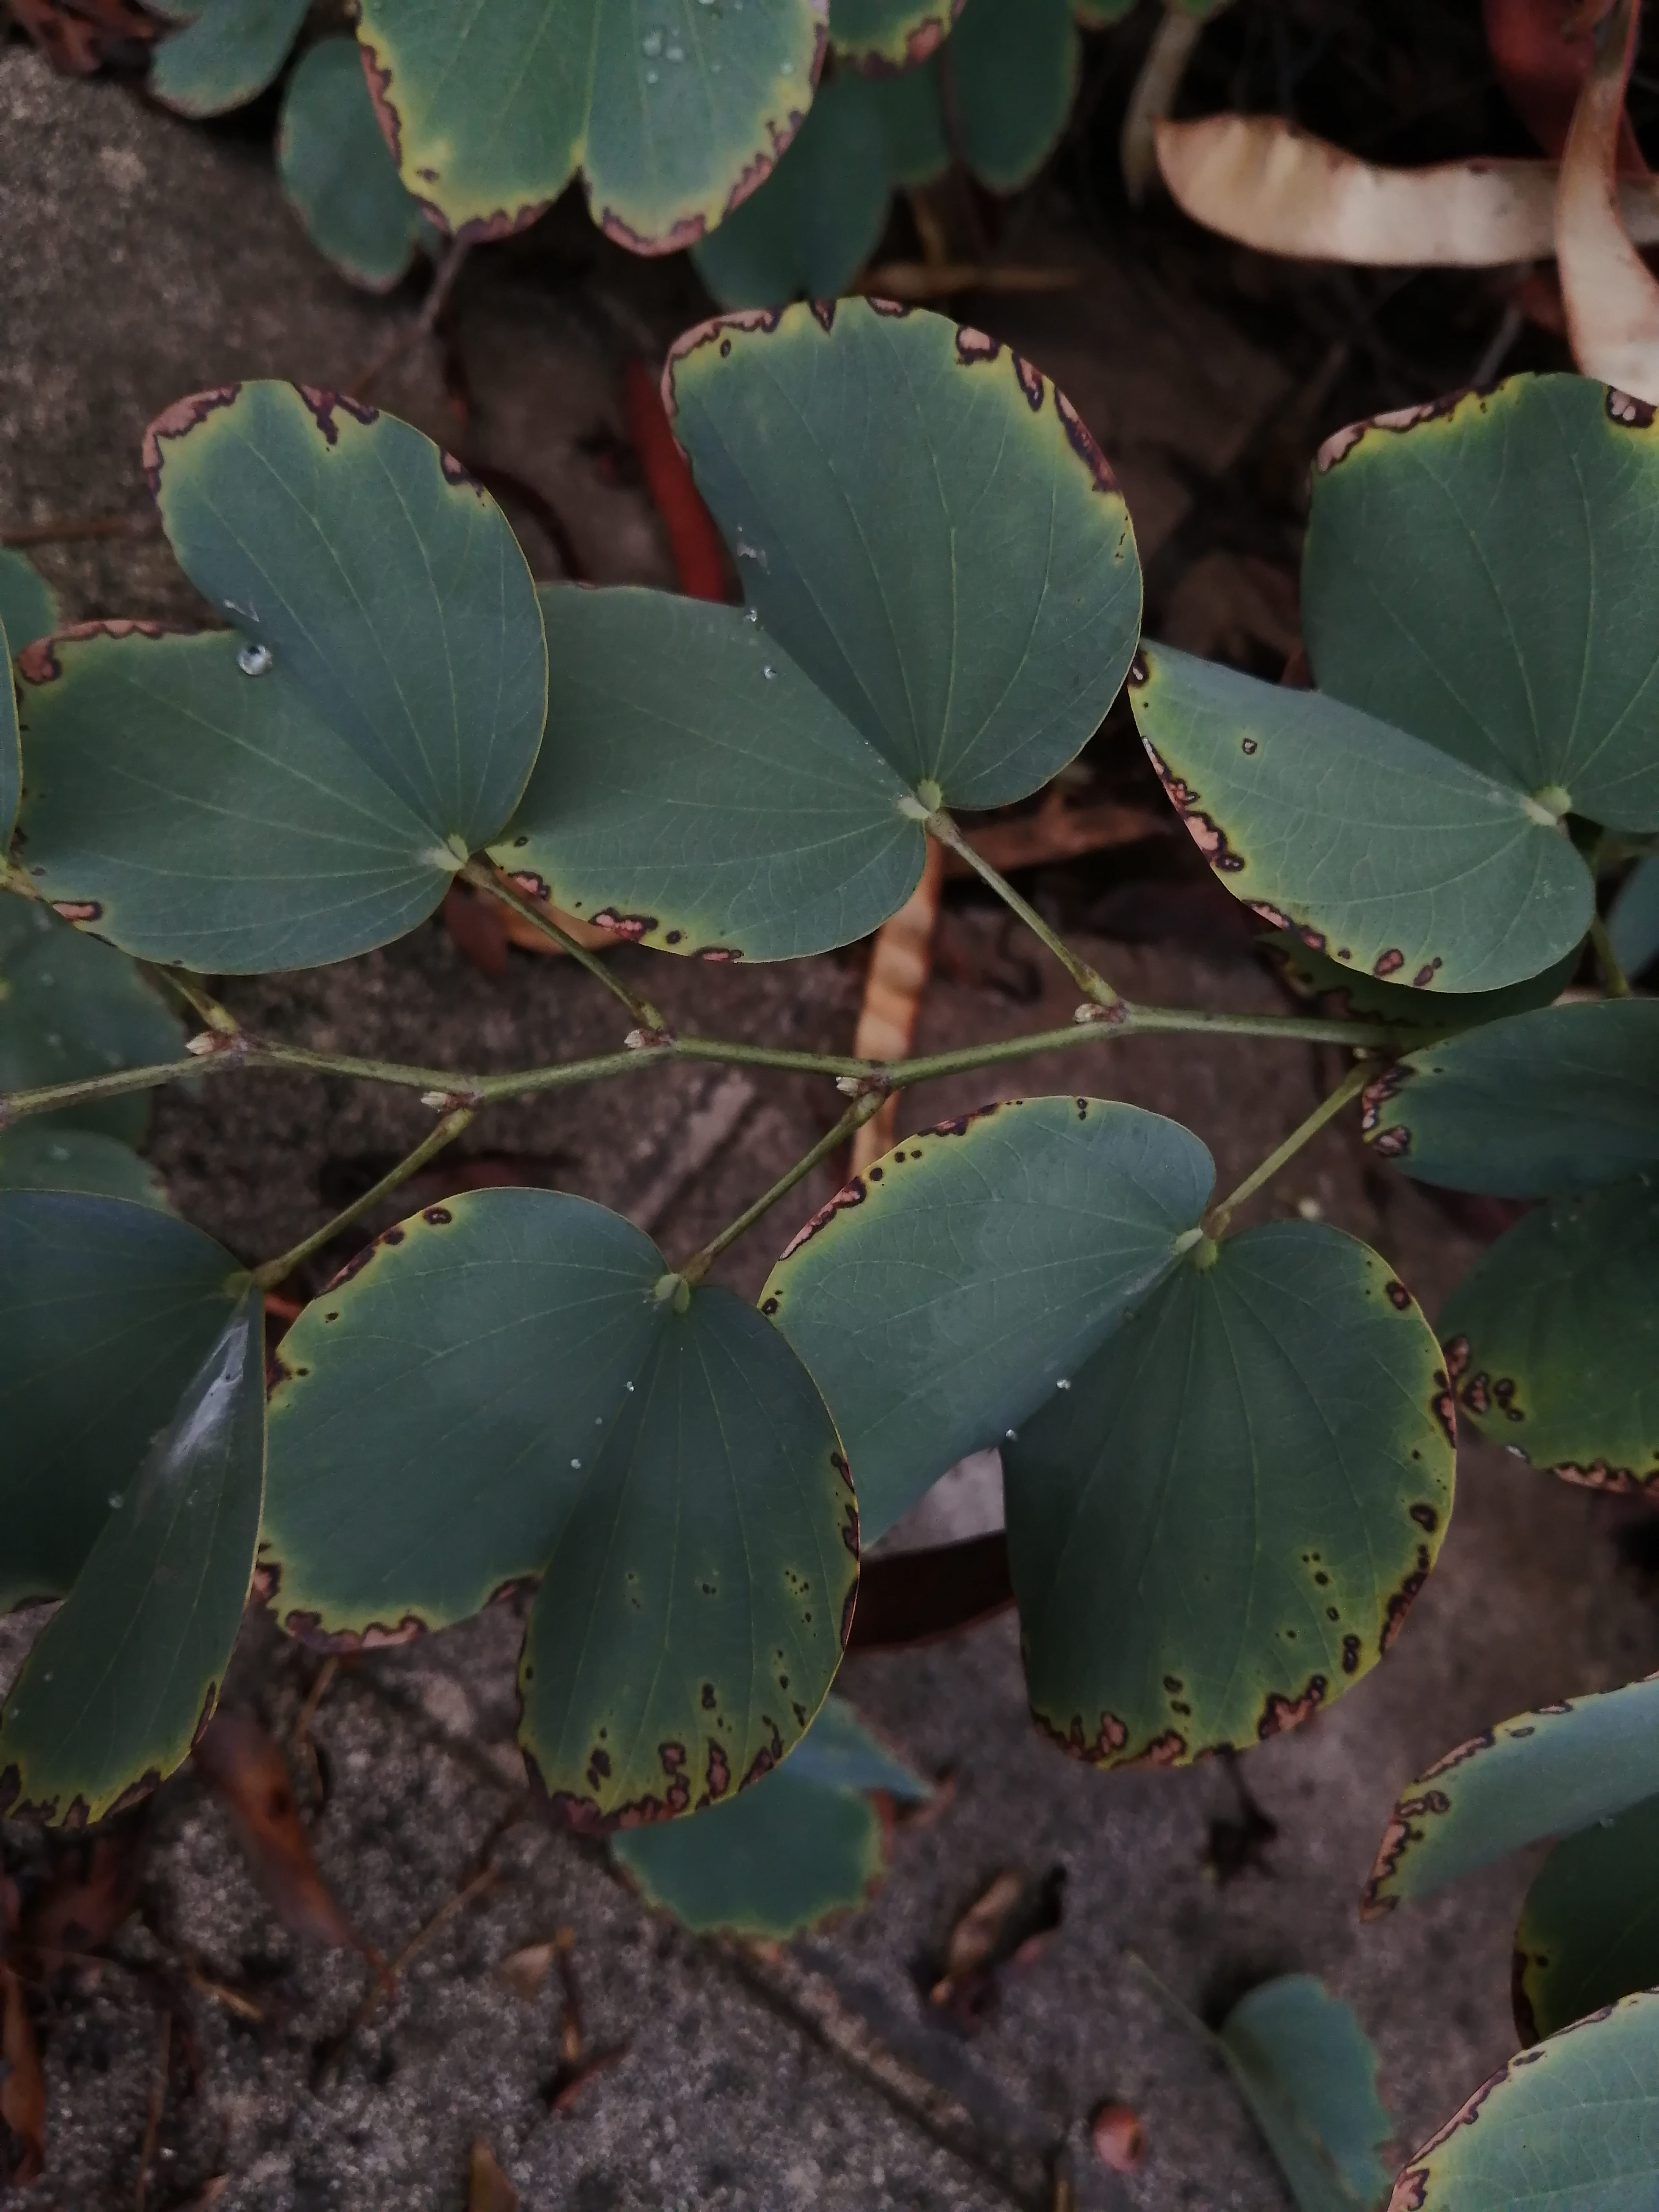nothealthy: (753, 1090, 1459, 1789), (467, 301, 1168, 965), (214, 1162, 873, 1838), (1105, 345, 1638, 1035), (21, 347, 570, 979), (9, 1170, 321, 1848), (336, 7, 873, 268)
